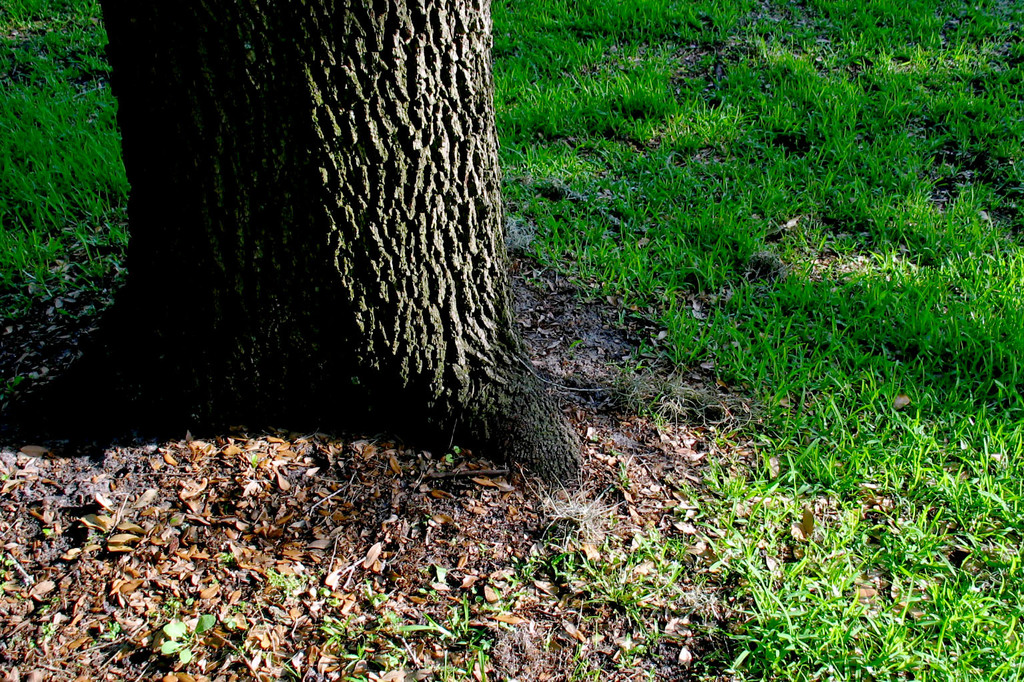Tree: (146, 15, 573, 443)
